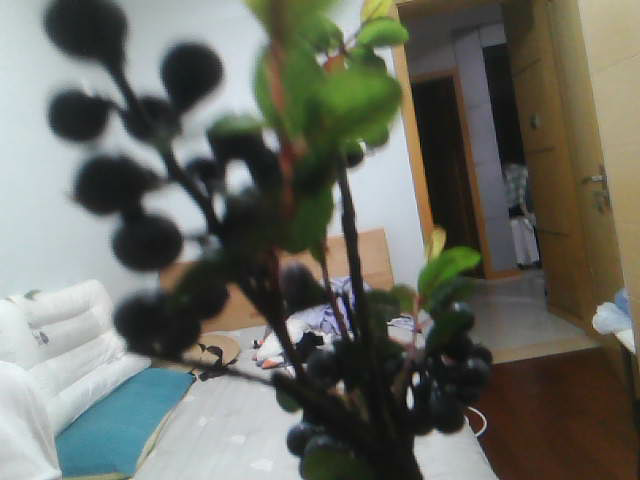blueberry: (61, 148, 142, 205), (37, 84, 103, 141), (226, 175, 278, 234), (114, 219, 177, 267), (165, 38, 219, 89), (110, 293, 165, 341), (125, 87, 175, 138), (41, 9, 106, 47), (304, 390, 346, 428), (352, 340, 394, 375), (234, 236, 276, 266), (312, 340, 339, 386), (201, 114, 266, 133), (424, 373, 472, 396), (180, 278, 215, 306), (457, 340, 493, 367), (281, 420, 320, 441), (440, 306, 476, 323), (249, 158, 272, 180), (293, 367, 306, 405), (432, 323, 438, 358)
